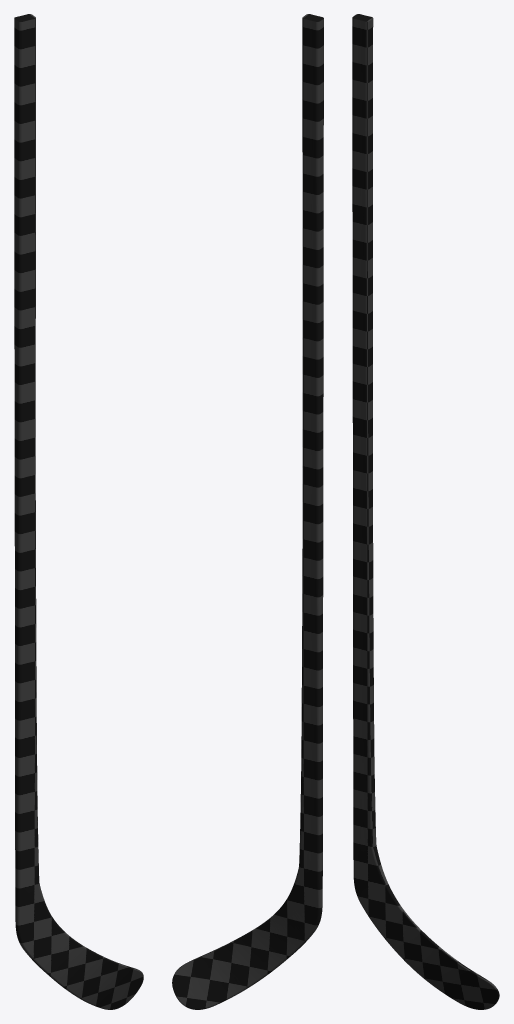
Rendered from P911-SBT.glb.
The picture shows the model from 3 angles, left to right: view 1: azimuth 30°, elevation 25°; view 2: azimuth 150°, elevation 25°; view 3: azimuth 330°, elevation 25°; orthographic projection. The views are drawn at different scales.
Visible parts, largest first — view 1: geometry_0; view 2: geometry_0; view 3: geometry_0.
Part boxes in pixels (x1=…): geometry_0: x1=14, y1=14, x2=143, y2=1009; geometry_0: x1=172, y1=14, x2=323, y2=1009; geometry_0: x1=352, y1=14, x2=499, y2=1009.
Size of the model in its own units: 235 by 1650 by 55.42.
1 material, 1 textured.
